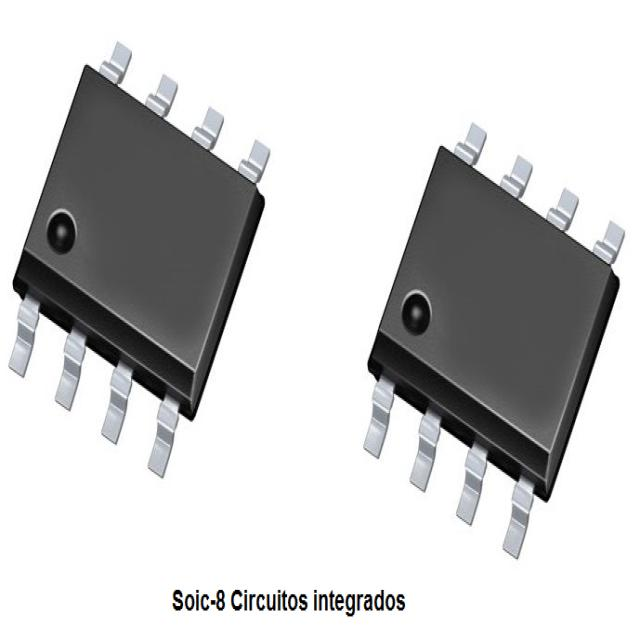IC: (5, 39, 272, 482), (367, 127, 617, 548)
